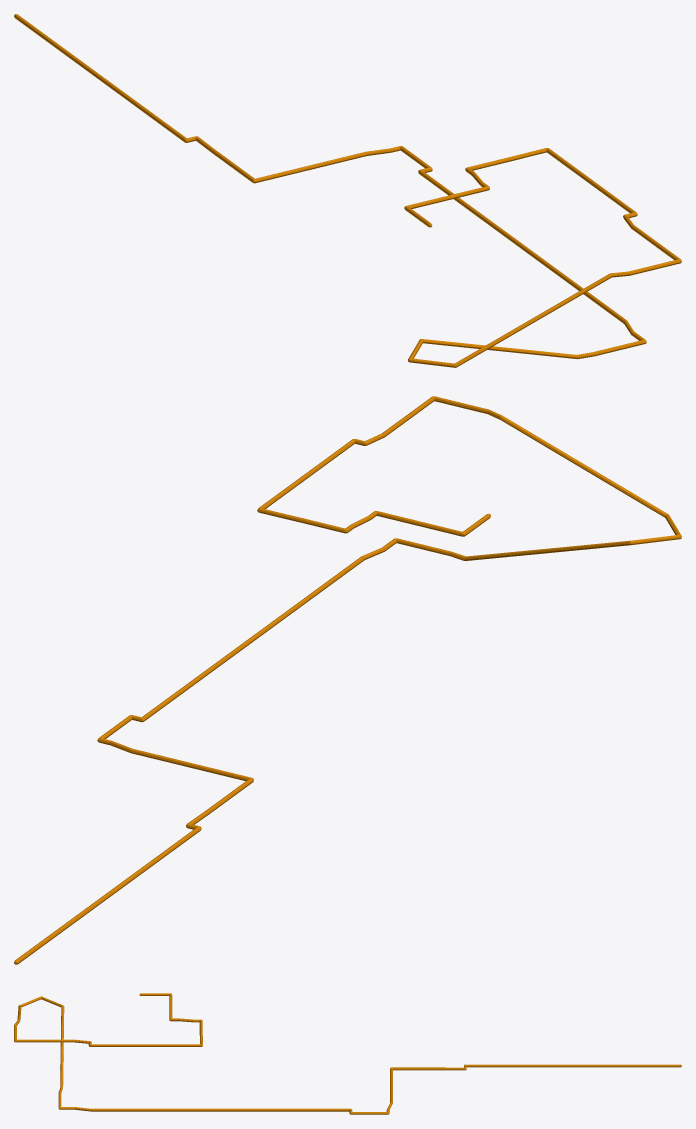
The picture shows the model from 3 angles, top to bottom: view 1: azimuth 30°, elevation 25°; view 2: azimuth 150°, elevation 25°; view 3: azimuth 270°, elevation 25°; orthographic projection. The views are drawn at different scales.
Bounding box in the file's own units: 1325 × 520 × 4501.
